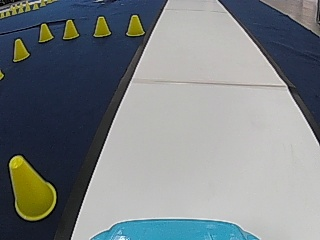cone: (8, 155, 55, 218), (126, 14, 144, 36), (12, 38, 29, 61), (93, 16, 111, 37), (62, 19, 79, 40), (38, 23, 53, 42)
